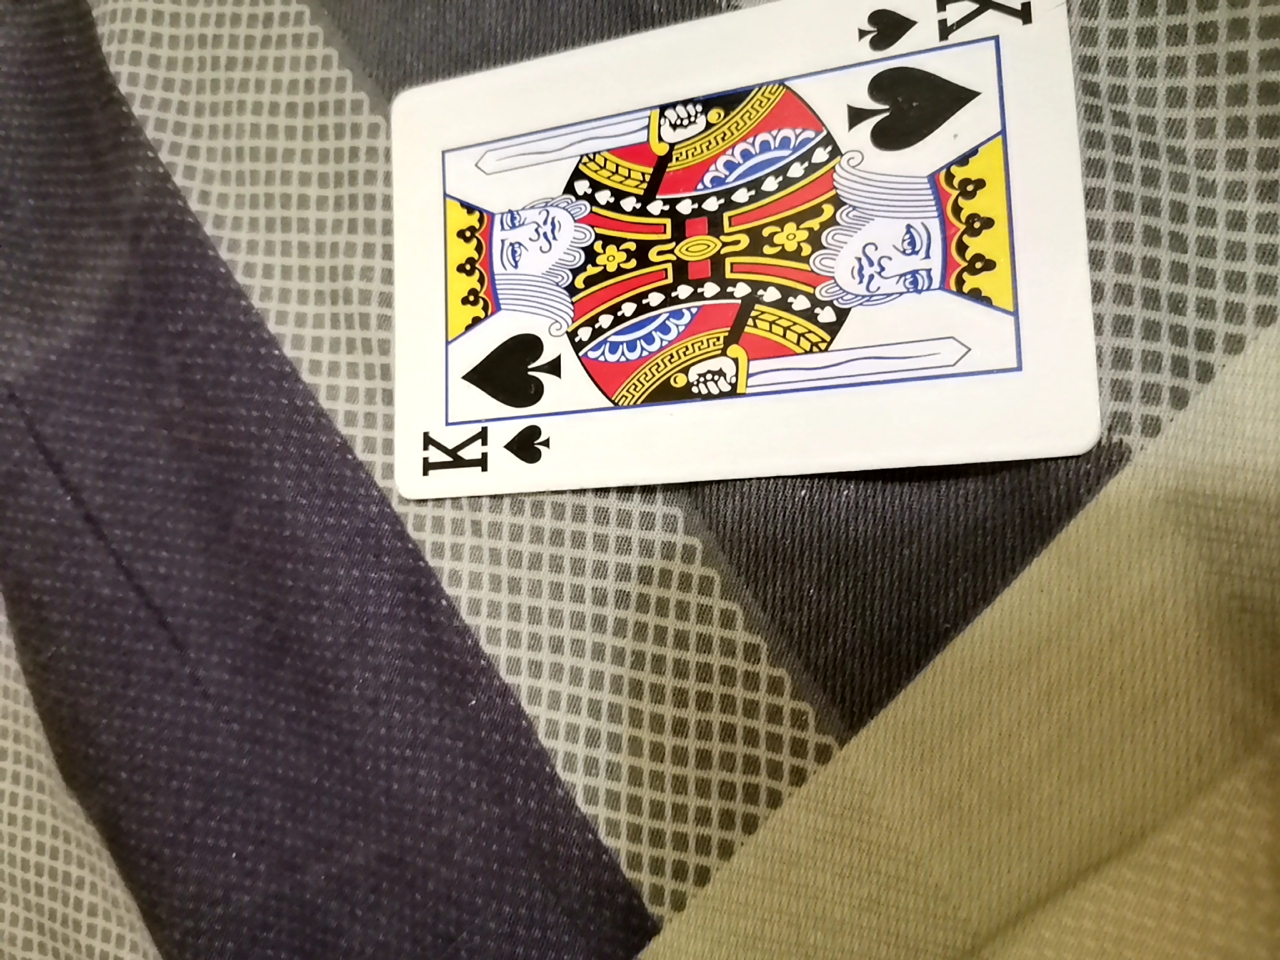ht k: (388, 3, 1107, 508)
